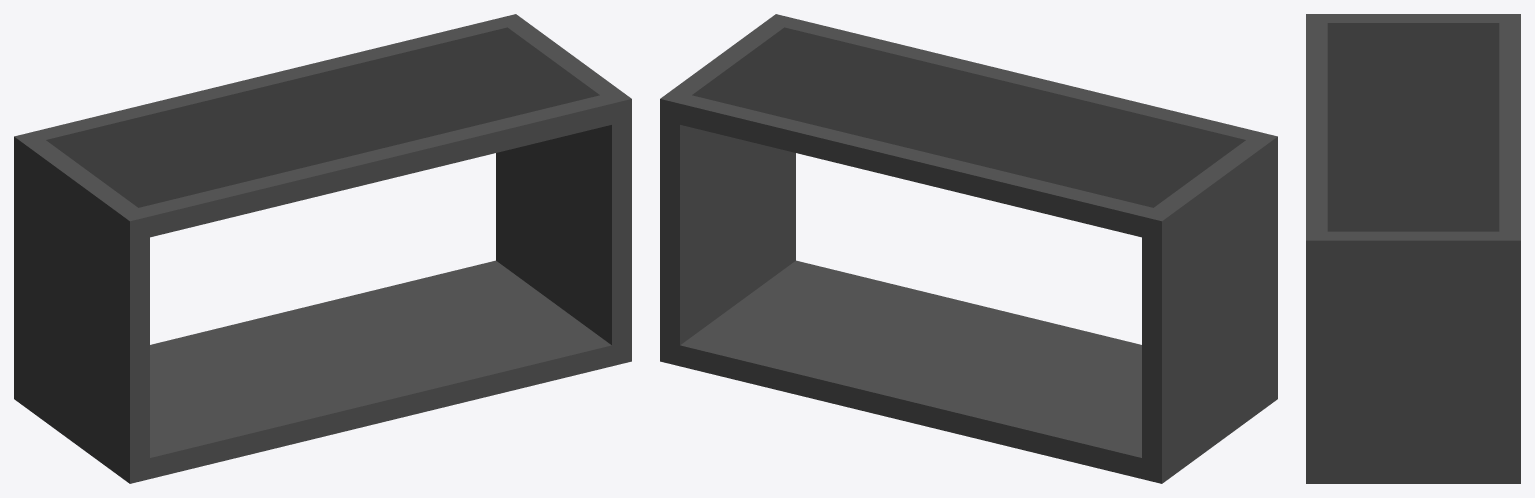
The model's file is Bench1_C2.fbx.
3 views of the same model, side by side, from view 1: azimuth 30°, elevation 25°; view 2: azimuth 150°, elevation 25°; view 3: azimuth 270°, elevation 25° (orthographic). The views are drawn at different scales.
Visible parts, largest first — view 1: Bench1_C2; view 2: Bench1_C2; view 3: Bench1_C2.
Part boxes in pixels (x1,y1,x2,y2): Bench1_C2: (14, 14, 631, 483); Bench1_C2: (660, 14, 1277, 483); Bench1_C2: (1306, 14, 1520, 483).
Size of the model in its own units: 100 by 50 by 40.
